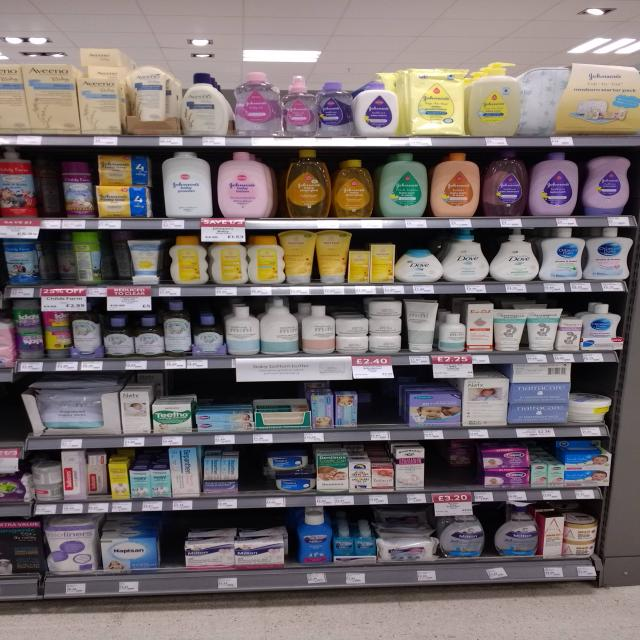empty: (420, 446, 488, 495), (355, 381, 409, 430), (152, 516, 189, 572)
